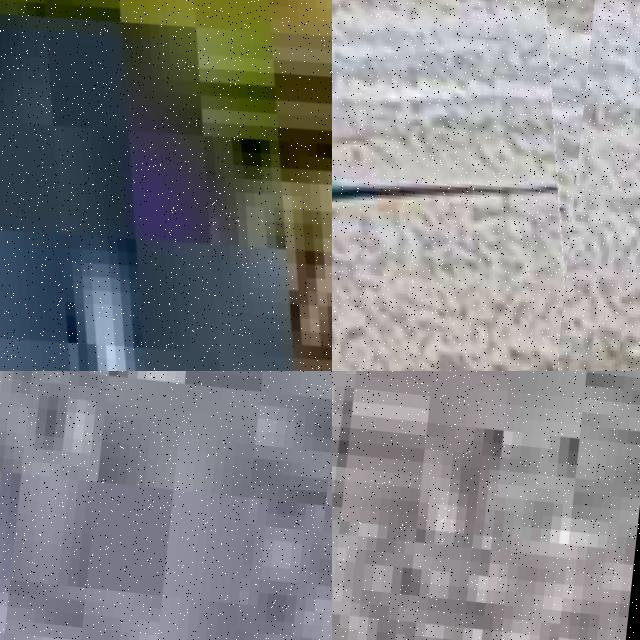drone: (0, 0, 332, 371), (332, 0, 605, 371)
